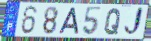5: (82, 6, 103, 37)
6: (20, 5, 39, 36)
8: (42, 6, 59, 35)
A: (58, 7, 80, 35)
J: (123, 6, 145, 39)
Q: (103, 7, 122, 36)
